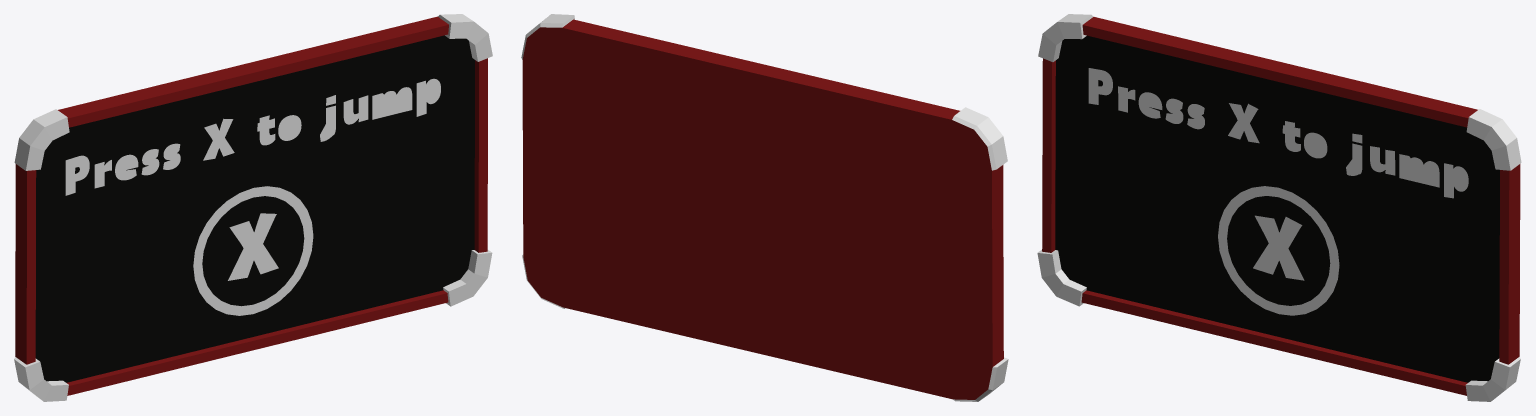
File: Tuto1-PSN.FBX
3 views of the same model, side by side, from view 1: azimuth 30°, elevation 25°; view 2: azimuth 150°, elevation 25°; view 3: azimuth 330°, elevation 25° (orthographic).
Visible parts, largest first — view 1: Pizarra 1, Text021, Shape014, Text022; view 2: Pizarra 1; view 3: Pizarra 1, Text021, Shape014, Text022.
Part boxes in pixels (x1,y1,x2,y2): Pizarra 1: (14, 14, 492, 401); Text021: (65, 78, 440, 195); Shape014: (193, 186, 313, 315); Text022: (228, 213, 278, 280); Pizarra 1: (521, 14, 1008, 401); Pizarra 1: (1037, 14, 1521, 401); Text021: (1088, 68, 1468, 198); Shape014: (1218, 186, 1339, 315); Text022: (1253, 215, 1304, 280).
Bounding box in the file's own units: 77.68 × 44.99 × 4.52.
